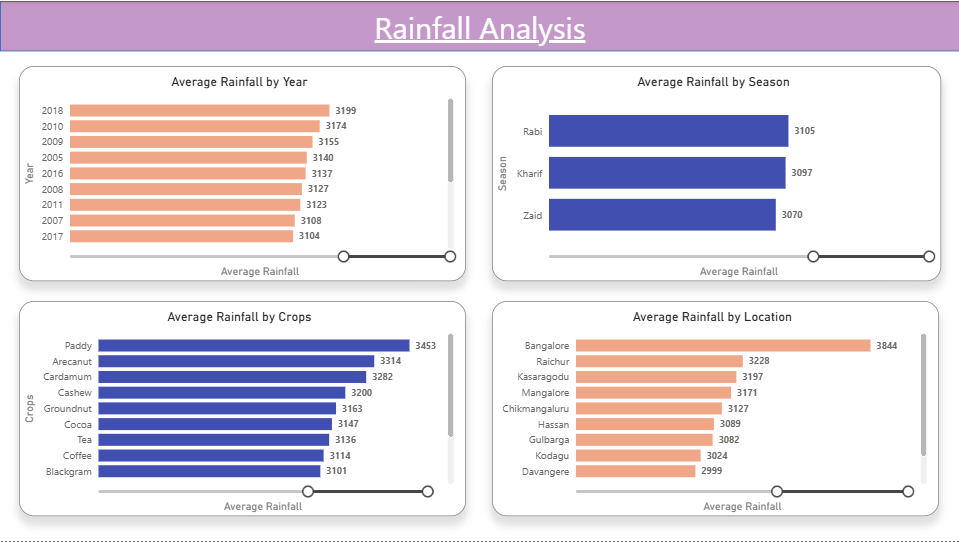

What the dashboard file says about the page in this screenshot:
{"tool":"powerbi","page":{"name":"Rainfall Analysis","canvas":[1280,720],"ordinal":0},"visuals":[{"type":"shape","box":[0,0,1280,67.1],"z":0},{"type":"barChart","fields":{"Category":["AGRICULTURE.YEAR"],"Y":["Avg(AGRICULTURE.RAINFALL)"]},"box":[25.7,87.1,595.7,287.1],"z":1000},{"type":"barChart","fields":{"Category":["AGRICULTURE.SEASON"],"Y":["Avg(AGRICULTURE.RAINFALL)"]},"box":[655.7,87.1,598.6,287.1],"z":2000},{"type":"barChart","fields":{"Category":["AGRICULTURE.CROPS"],"Y":["Avg(AGRICULTURE.RAINFALL)"]},"box":[25.7,400,595.7,287.1],"z":3000},{"type":"barChart","fields":{"Y":["Avg(AGRICULTURE.RAINFALL)"],"Category":["AGRICULTURE.LOCATION"]},"box":[655.7,400,595.7,287.1],"z":4000}]}

Visuals, with their boxes in screenshot pixels (x1, y1, x2, y2), scaled from the page's 1280x720 canvas onto the 959x542 screenshot:
shape: <bbox>0, 0, 958, 51</bbox>
barChart - AGRICULTURE.YEAR x Avg(AGRICULTURE.RAINFALL): <bbox>19, 66, 466, 282</bbox>
barChart - AGRICULTURE.SEASON x Avg(AGRICULTURE.RAINFALL): <bbox>491, 66, 940, 282</bbox>
barChart - AGRICULTURE.CROPS x Avg(AGRICULTURE.RAINFALL): <bbox>19, 301, 466, 517</bbox>
barChart - Avg(AGRICULTURE.RAINFALL) x AGRICULTURE.LOCATION: <bbox>491, 301, 938, 517</bbox>
